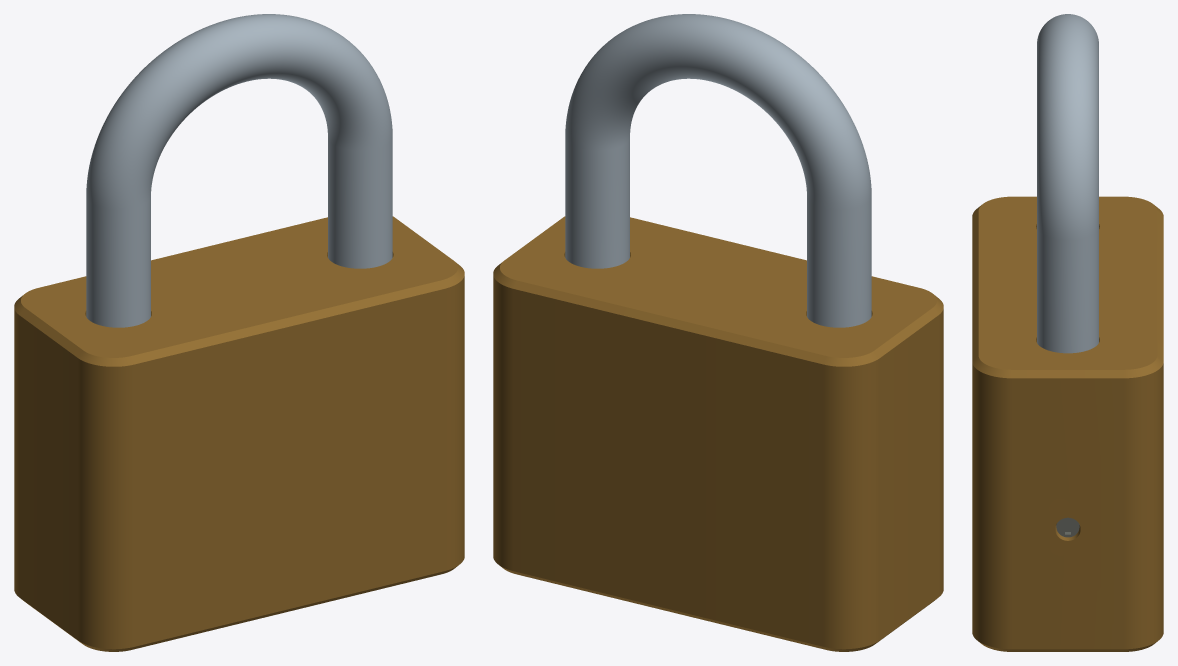
3 renders of one model, left to right at view 1: azimuth 30°, elevation 25°; view 2: azimuth 150°, elevation 25°; view 3: azimuth 270°, elevation 25°, orthographic. The views are drawn at different scales.
Parts seen in each view (by area): view 1: part_015_Brass_housing, part_001_Steel_shackle; view 2: part_015_Brass_housing, part_001_Steel_shackle; view 3: part_015_Brass_housing, part_001_Steel_shackle, part_004_Recessed_reset_cam.
Part boxes in pixels (left/top/right/bottom): part_015_Brass_housing: left=14, top=216, right=464, bottom=651; part_001_Steel_shackle: left=86, top=14, right=392, bottom=327; part_015_Brass_housing: left=493, top=216, right=943, bottom=651; part_001_Steel_shackle: left=565, top=14, right=871, bottom=327; part_015_Brass_housing: left=972, top=196, right=1163, bottom=651; part_001_Steel_shackle: left=1037, top=14, right=1098, bottom=353; part_004_Recessed_reset_cam: left=1056, top=517, right=1079, bottom=537.
Size of the model in its own units: 0.053 by 0.074 by 0.024.
